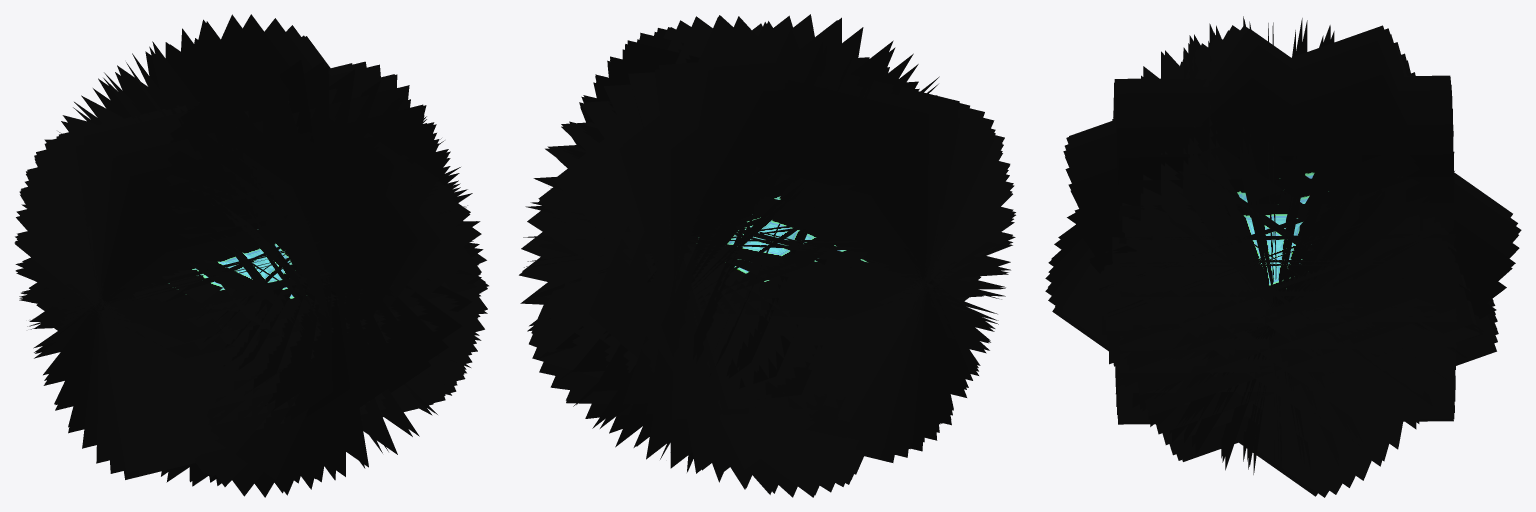
The model's file is glow.glb.
The picture shows the model from 3 angles, left to right: view 1: azimuth 30°, elevation 25°; view 2: azimuth 150°, elevation 25°; view 3: azimuth 270°, elevation 25°; orthographic projection. The views are drawn at different scales.
Visible parts, largest first — view 1: glow v2.069, glow v2.065, glow v2.087, glow v2.081, glow v2.088, glow v2.041, glow v2.085, glow v2.056, glow v2.073, glow v2.067, glow v2.089, glow v2.083 (+82 smaller); view 2: glow v2.024, glow v2.021, glow v2.053, glow v2.019, glow v2.017, glow v2.023, glow v2.055, glow v2.088, glow v2.049, glow v2.051, glow v2.056, glow v2.081 (+82 smaller); view 3: glow v2.060, glow v2.092, glow v2.057, glow v2.089, glow v2.028, glow v2.051, glow v2.058, glow v2.096, glow v2.090, glow v2.026, glow v2.053, glow v2.083 (+80 smaller).
Part boxes in pixels (box(x1,y1,x2,y2)): glow v2.069: box(18, 85, 480, 441); glow v2.065: box(23, 105, 476, 421); glow v2.087: box(62, 18, 449, 492); glow v2.081: box(25, 19, 482, 487); glow v2.088: box(24, 28, 487, 480); glow v2.041: box(16, 99, 476, 448); glow v2.085: box(135, 14, 474, 493); glow v2.056: box(64, 72, 460, 407); glow v2.073: box(21, 61, 474, 467); glow v2.067: box(17, 74, 480, 452); glow v2.089: box(81, 25, 457, 486); glow v2.083: box(44, 14, 466, 494); glow v2.024: box(521, 27, 863, 459); glow v2.021: box(524, 14, 886, 470); glow v2.053: box(553, 16, 897, 493); glow v2.019: box(529, 15, 867, 469); glow v2.017: box(522, 17, 841, 465); glow v2.023: box(541, 23, 838, 464); glow v2.055: box(566, 16, 851, 495); glow v2.088: box(533, 67, 983, 404); glow v2.049: box(541, 21, 853, 488); glow v2.051: box(566, 15, 875, 495); glow v2.056: box(532, 28, 858, 482); glow v2.081: box(530, 57, 869, 410); glow v2.060: box(1048, 61, 1512, 466); glow v2.092: box(1070, 80, 1495, 416); glow v2.057: box(1067, 35, 1496, 487); glow v2.089: box(1081, 42, 1479, 444); glow v2.028: box(1115, 131, 1455, 377); glow v2.051: box(1051, 58, 1515, 461); glow v2.058: box(1045, 50, 1518, 429); glow v2.096: box(1076, 60, 1472, 434); glow v2.090: box(1065, 46, 1498, 370); glow v2.026: box(1116, 96, 1456, 406); glow v2.053: box(1048, 63, 1519, 446); glow v2.083: box(1068, 72, 1493, 410).
Size of the model in its own units: 81.03 by 109 by 108.
1 material, 1 textured.
